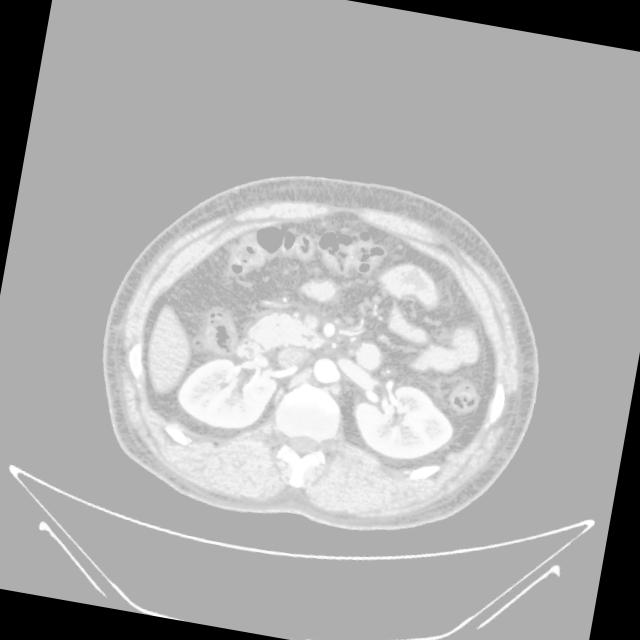NORMAL: (68, 131, 566, 564)
